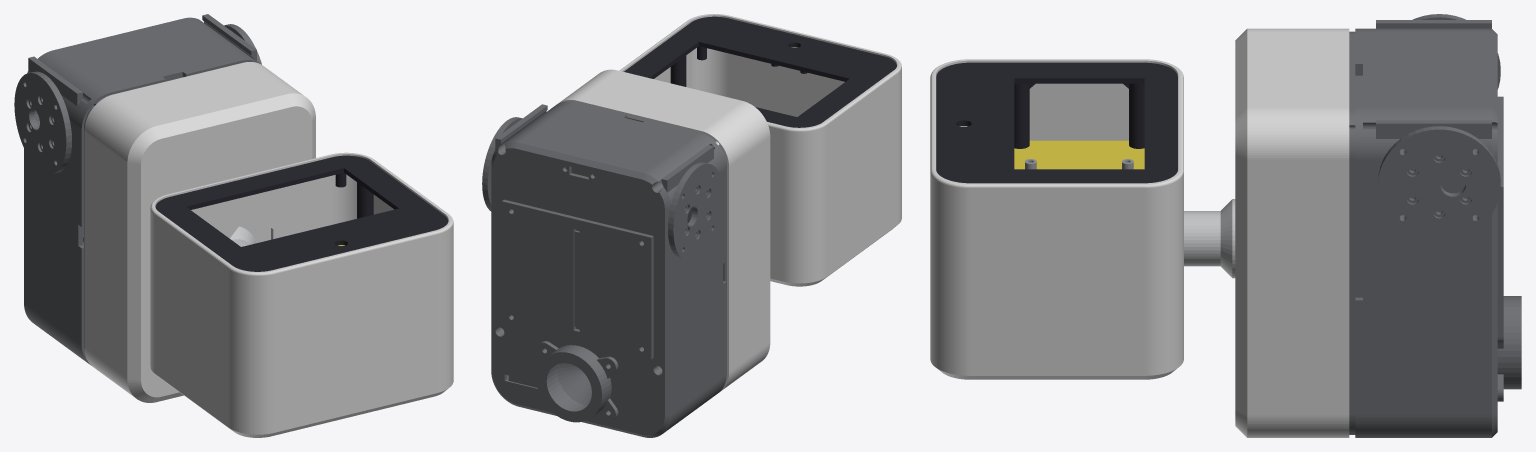
The model's file is montagem.glb.
The picture shows the model from 3 angles, left to right: view 1: azimuth 30°, elevation 25°; view 2: azimuth 150°, elevation 25°; view 3: azimuth 270°, elevation 25°; orthographic projection. The views are drawn at different scales.
Parts seen in each view (by area): view 1: cabeca-corpo-0, tronco-0, base-rodas-0, cabeca-face-0, flange-motor-1; view 2: base-rodas-0, cabeca-corpo-0, tampa-bateria-0, tronco-0, cabeca-face-0, flange-motor-1, capa-esfera-0, flange-motor-0, deck-0; view 3: cabeca-corpo-0, base-rodas-0, tronco-0, cabeca-face-0, flange-motor-0, quadro-cabeca-0, tubo-pescoco-0, deck-0, capa-esfera-0, tampa-bateria-0.
Part boxes in pixels (left/top/right/bottom): cabeca-corpo-0: left=150, top=152, right=453, bottom=437; tronco-0: left=84, top=62, right=315, bottom=402; base-rodas-0: left=24, top=14, right=260, bottom=365; cabeca-face-0: left=155, top=155, right=448, bottom=271; flange-motor-1: left=14, top=71, right=71, bottom=174; base-rodas-0: left=491, top=101, right=726, bottom=437; cabeca-corpo-0: left=619, top=14, right=901, bottom=286; tampa-bateria-0: left=501, top=199, right=653, bottom=359; tronco-0: left=558, top=69, right=770, bottom=391; cabeca-face-0: left=624, top=16, right=896, bottom=127; flange-motor-1: left=668, top=162, right=722, bottom=260; capa-esfera-0: left=536, top=341, right=618, bottom=422; flange-motor-0: left=482, top=117, right=522, bottom=211; deck-0: left=565, top=102, right=726, bottom=374; cabeca-corpo-0: left=930, top=59, right=1183, bottom=379; base-rodas-0: left=1355, top=20, right=1497, bottom=437; tronco-0: left=1235, top=28, right=1349, bottom=437; cabeca-face-0: left=936, top=62, right=1177, bottom=183; flange-motor-0: left=1378, top=126, right=1500, bottom=240; quadro-cabeca-0: left=1014, top=140, right=1144, bottom=169; tubo-pescoco-0: left=1184, top=199, right=1235, bottom=278; deck-0: left=1349, top=31, right=1355, bottom=434; capa-esfera-0: left=1497, top=296, right=1521, bottom=401; tampa-bateria-0: left=1497, top=96, right=1503, bottom=337.
Bounding box in the file's own units: 152 × 182 × 298.
